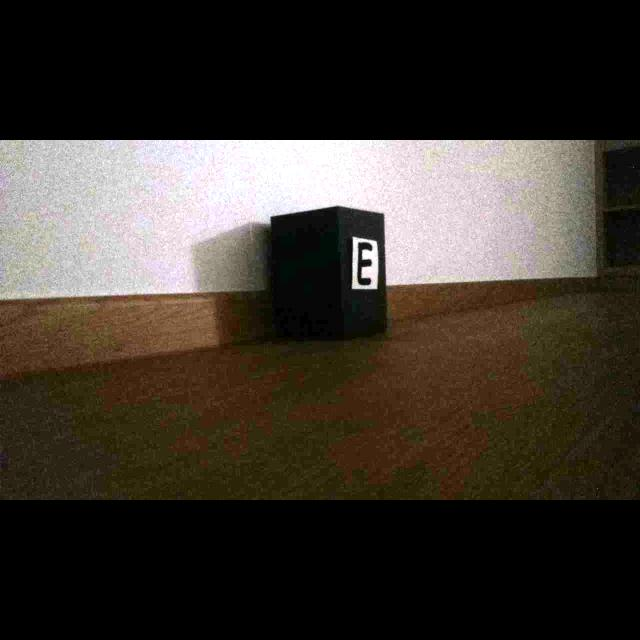E: (358, 242, 373, 285)
